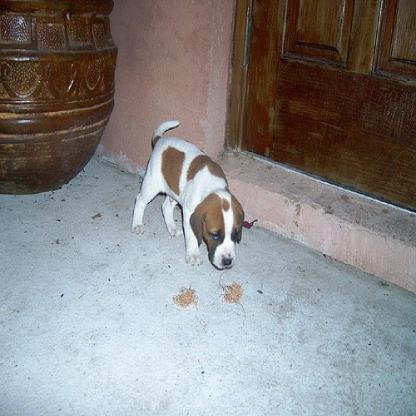dog: (130, 120, 246, 270)
